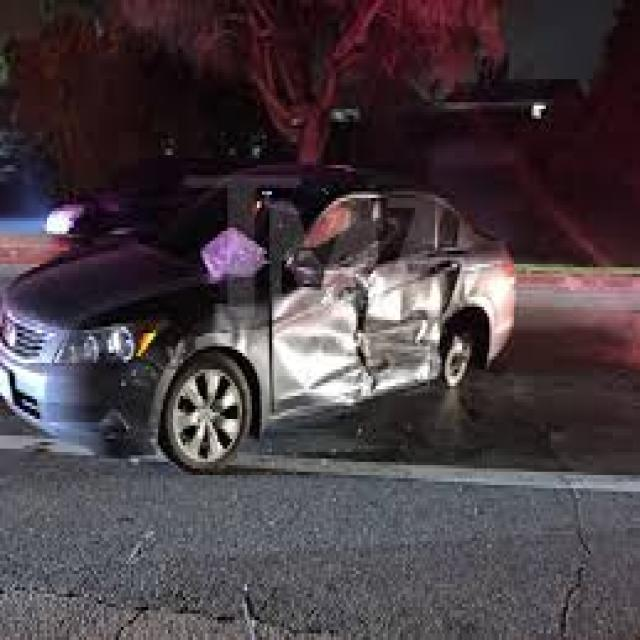accident: (11, 169, 546, 488)
